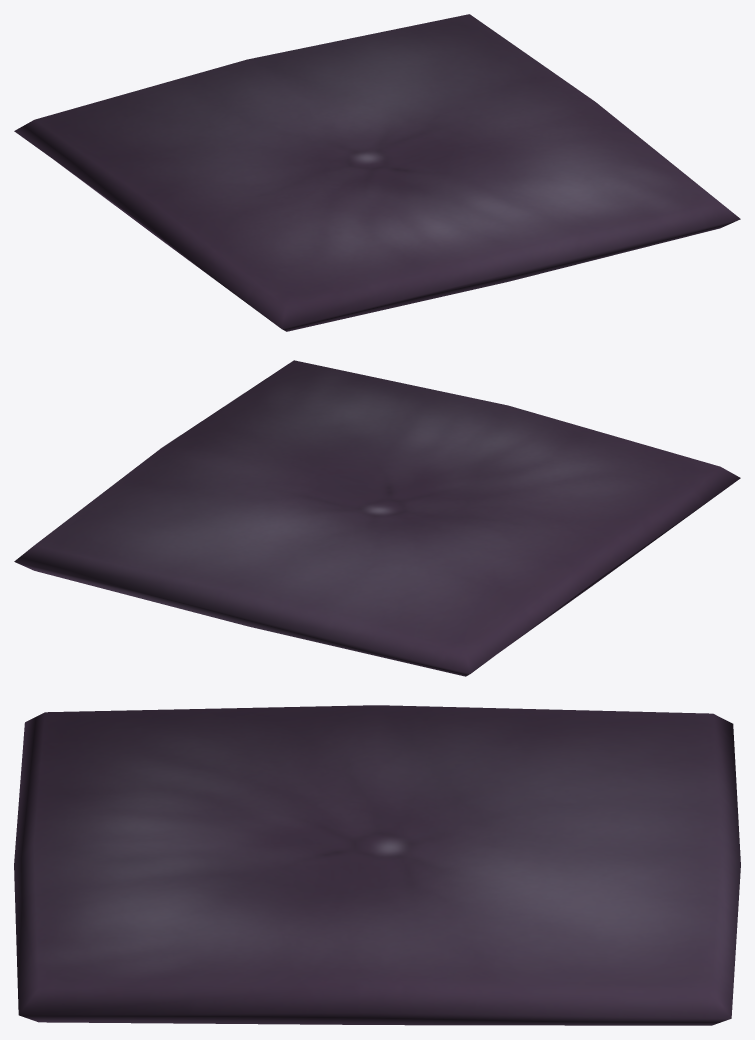
File: jov_zabton01.fbx
3 views of the same model, one above another, from view 1: azimuth 30°, elevation 25°; view 2: azimuth 150°, elevation 25°; view 3: azimuth 270°, elevation 25° (orthographic). The views are drawn at different scales.
Parts seen in each view (by area): view 1: jov_zabton01; view 2: jov_zabton01; view 3: jov_zabton01.
Part boxes in pixels (left/top/right/bottom): jov_zabton01: left=14, top=14, right=740, bottom=331; jov_zabton01: left=14, top=360, right=740, bottom=676; jov_zabton01: left=14, top=705, right=740, bottom=1025.
Bounding box in the file's own units: 84.75 × 5.43 × 87.87.
